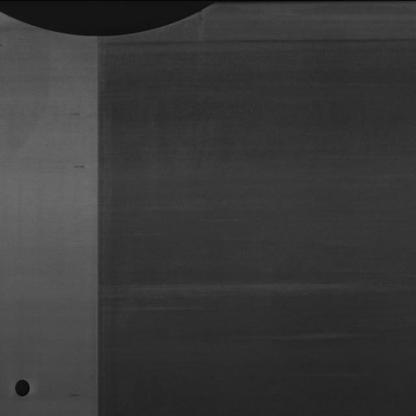punching_hole: (8, 376, 34, 399)
welding_line: (82, 32, 113, 416)
